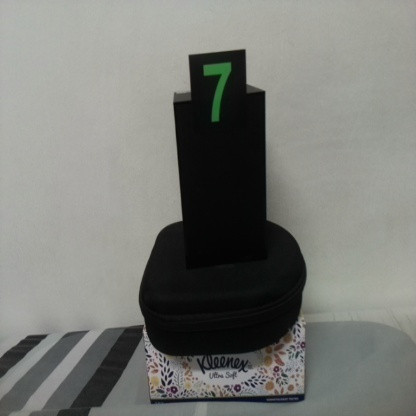id_7: (189, 54, 247, 150)
